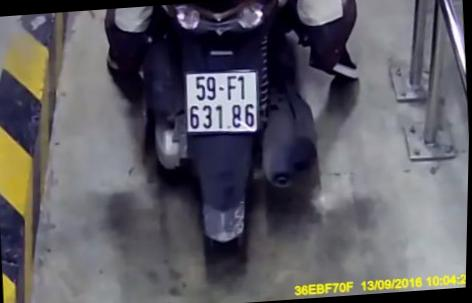LP: (180, 65, 264, 138)
